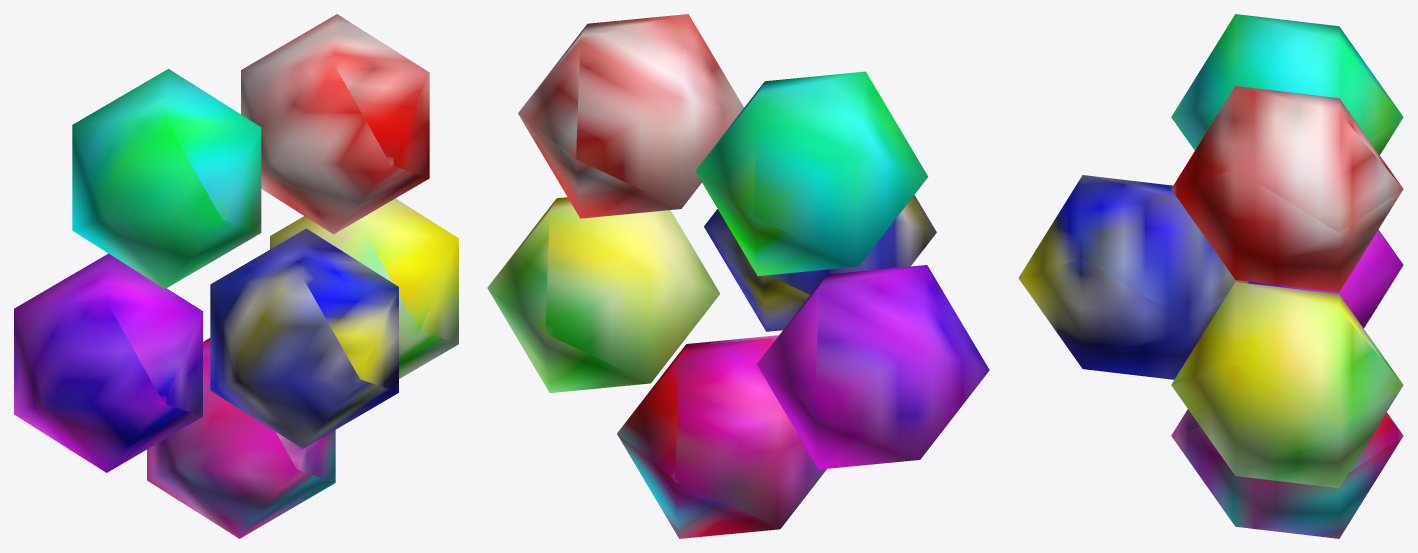
The model's file is marbles.glb.
3 renders of one model, left to right at view 1: azimuth 30°, elevation 25°; view 2: azimuth 150°, elevation 25°; view 3: azimuth 270°, elevation 25°, orthographic. The views are drawn at different scales.
Visible parts, largest first — view 1: joint_marble05, joint_marble06, joint_marble04, joint_marble01, joint_marble03, joint_marble02; view 2: joint_marble04, joint_marble05, joint_marble01, joint_marble02, joint_marble03, joint_marble06; view 3: joint_marble02, joint_marble01, joint_marble06, joint_marble05, joint_marble03, joint_marble04.
Boxes of the visible parts, x1,y1,x2,y2 form: joint_marble05: [72, 69, 261, 288]; joint_marble06: [210, 228, 398, 448]; joint_marble04: [14, 253, 202, 472]; joint_marble01: [241, 14, 429, 234]; joint_marble03: [147, 338, 335, 538]; joint_marble02: [270, 198, 458, 378]; joint_marble04: [756, 265, 989, 469]; joint_marble05: [695, 71, 928, 275]; joint_marble01: [518, 14, 743, 218]; joint_marble02: [487, 197, 720, 392]; joint_marble03: [617, 335, 826, 538]; joint_marble06: [704, 195, 936, 331]; joint_marble02: [1171, 282, 1403, 488]; joint_marble01: [1171, 86, 1403, 292]; joint_marble06: [1018, 175, 1248, 379]; joint_marble05: [1171, 14, 1403, 154]; joint_marble03: [1171, 409, 1403, 538]; joint_marble04: [1248, 229, 1403, 328].
Bounding box in the file's own units: 0.5726 × 0.5787 × 0.4263.
1 material, 1 textured.
